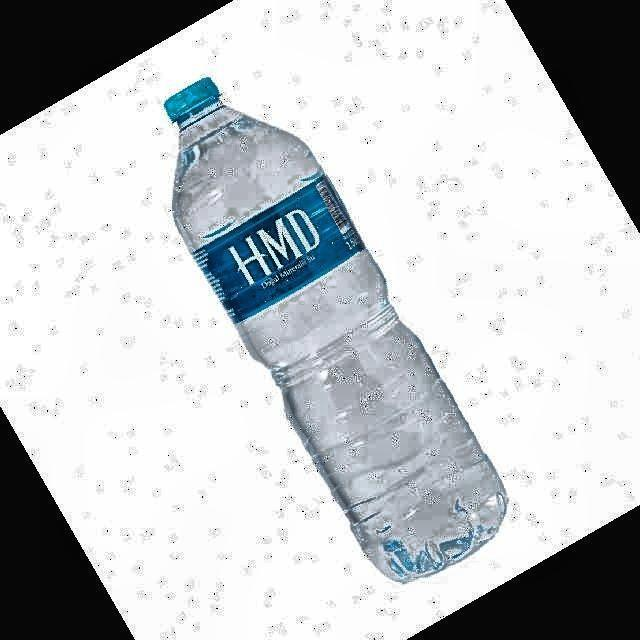plastic: (165, 79, 506, 582)
